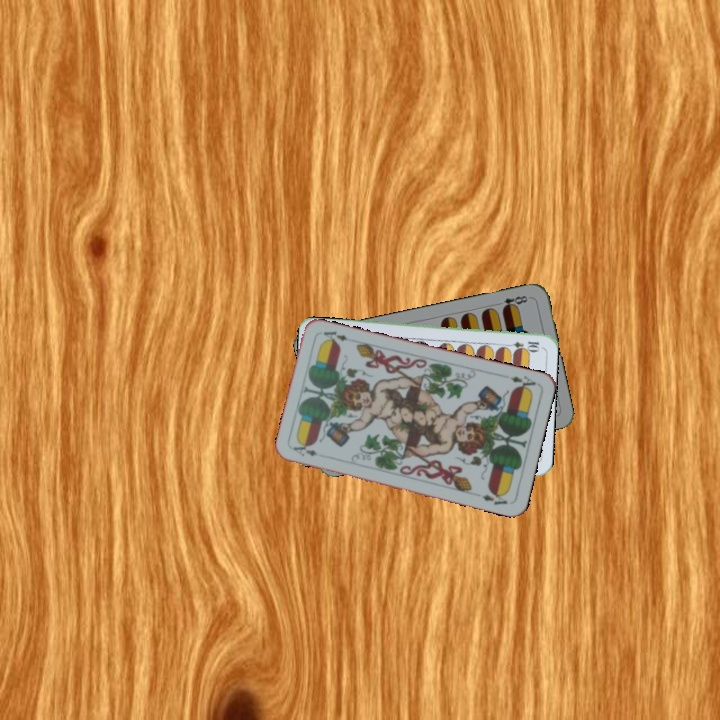E10: (501, 337, 542, 352)
E8: (498, 292, 533, 313)
EA: (507, 372, 538, 393), (289, 442, 320, 459)
